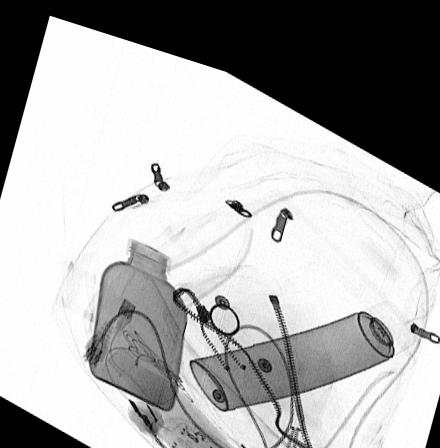Sprayer: (188, 275, 417, 395)
